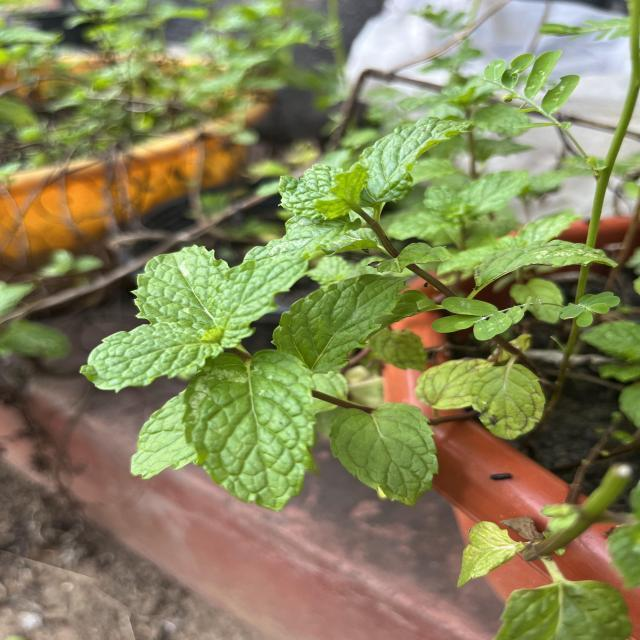Mentha spicata: (180, 348, 318, 513), (270, 273, 410, 377), (328, 402, 440, 508), (79, 323, 224, 394), (130, 243, 232, 326)
